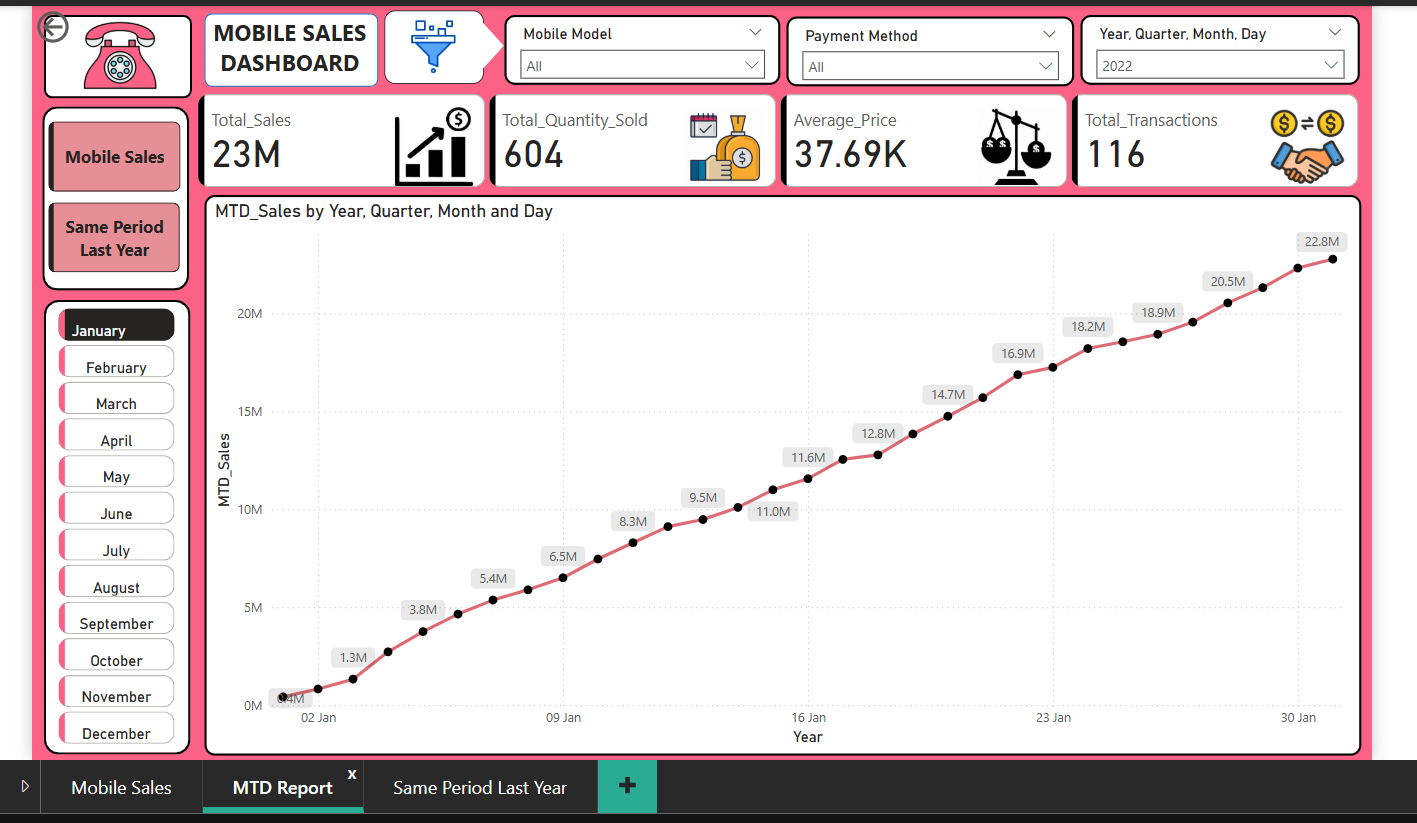

The dashboard page shown, as its layout file describes it:
{"tool":"powerbi","page":{"name":"MTD Report","canvas":[1280,720],"ordinal":1},"visuals":[{"type":"shape","box":[11.4,8.1,141.5,79.7],"z":0},{"type":"image","box":[21.1,6.5,125.2,79.7],"z":1000},{"type":"shape","box":[11.4,281.4,139.9,434.3],"z":2000},{"type":"shape","box":[9.8,96,139.9,175.7],"z":3000},{"type":"cardVisual","fields":{"Data":["Mobile_Sales_Data.Total_Sales","Mobile_Sales_Data.Total_Quantity_Sold","Mobile_Sales_Data.Average_Price","Mobile_Sales_Data.Total_Transactions"]},"box":[152.9,78.1,1120.7,99.2],"z":4000},{"type":"slicer","fields":{"Values":["Mobile_Sales_Data.Mobile Model"]},"box":[450.6,8.1,263.5,66.7],"z":5000},{"type":"slicer","fields":{"Values":["Mobile_Sales_Data.Payment Method"]},"box":[720.6,9.8,274.9,66.7],"z":6000},{"type":"slicer","fields":{"Values":["Custom_Calender.Date.Variation.Date Hierarchy.Year","Custom_Calender.Date.Variation.Date Hierarchy.Quarter","Custom_Calender.Date.Variation.Date Hierarchy.Month","Custom_Calender.Date.Variation.Date Hierarchy.Day"]},"box":[1002,8.1,266.8,66.7],"z":7000},{"type":"image","box":[336.7,4.9,94.3,69.9],"z":8000},{"type":"shape","box":[405,13,45.5,50.4],"z":9000},{"type":"shape","box":[164.3,6.5,165.9,69.9],"z":10000},{"type":"textbox","box":[157.8,4.9,177.3,105.7],"z":11000},{"type":"actionButton","box":[0,0,100,40],"z":12000},{"type":"advancedSlicerVisual","fields":{"Values":["Custom_Calender.Date.Variation.Date Hierarchy.Month"]},"box":[19.5,283,122,426.2],"z":13000},{"type":"lineChart","fields":{"Y":["Mobile_Sales_Data.MTD_Sales"],"Category":["Custom_Calender.Date.Variation.Date Hierarchy.Year","Custom_Calender.Date.Variation.Date Hierarchy.Quarter","Custom_Calender.Date.Variation.Date Hierarchy.Month","Custom_Calender.Date.Variation.Date Hierarchy.Day"]},"box":[164.3,180.5,1104.4,535.1],"z":14000},{"type":"pageNavigator","box":[16.3,110.6,126.9,144.8],"z":15000}]}

Visuals, with their boxes on the page's 1280x720 design canvas (x1, y1, x2, y2). These are canvas units, not pixel positions in the 1417x823 screenshot, which may show the page scaled, cropped or inside an application window:
shape: 11,8,153,88
image: 21,6,146,86
shape: 11,281,151,716
shape: 10,96,150,272
cardVisual - Mobile_Sales_Data.Total_Sales x Mobile_Sales_Data.Total_Quantity_Sold: 153,78,1274,177
slicer - Mobile_Sales_Data.Mobile Model: 451,8,714,75
slicer - Mobile_Sales_Data.Payment Method: 721,10,996,76
slicer - Custom_Calender.Date.Variation.Date Hierarchy.Year x Custom_Calender.Date.Variation.Date Hierarchy.Quarter: 1002,8,1269,75
image: 337,5,431,75
shape: 405,13,450,63
shape: 164,6,330,76
textbox: 158,5,335,111
actionButton: 0,0,100,40
advancedSlicerVisual - Custom_Calender.Date.Variation.Date Hierarchy.Month: 20,283,142,709
lineChart - Mobile_Sales_Data.MTD_Sales x Custom_Calender.Date.Variation.Date Hierarchy.Year: 164,180,1269,716
pageNavigator: 16,111,143,255
